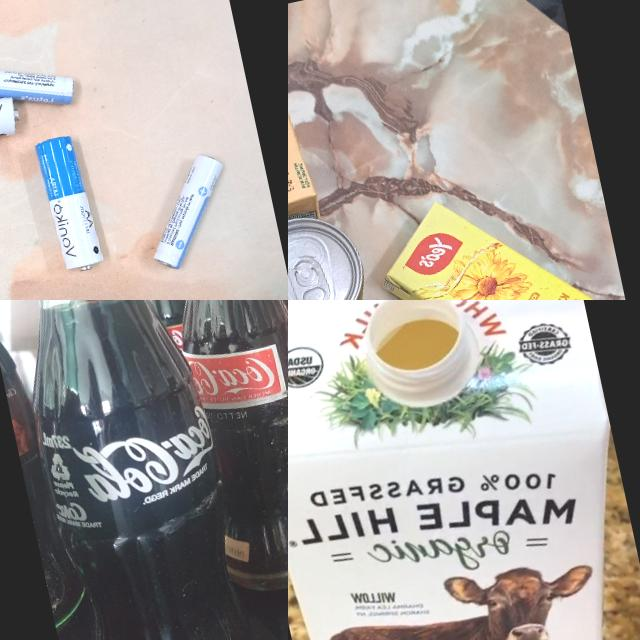aba de lata: (288, 253, 332, 300)
bateria: (134, 150, 242, 272), (34, 132, 106, 275), (0, 45, 78, 126)
caixinha: (288, 300, 640, 640), (365, 169, 635, 300), (288, 83, 321, 247)
garrafa de vidro: (0, 300, 265, 640), (131, 300, 288, 605), (113, 300, 200, 336)
lata: (288, 204, 379, 300)
